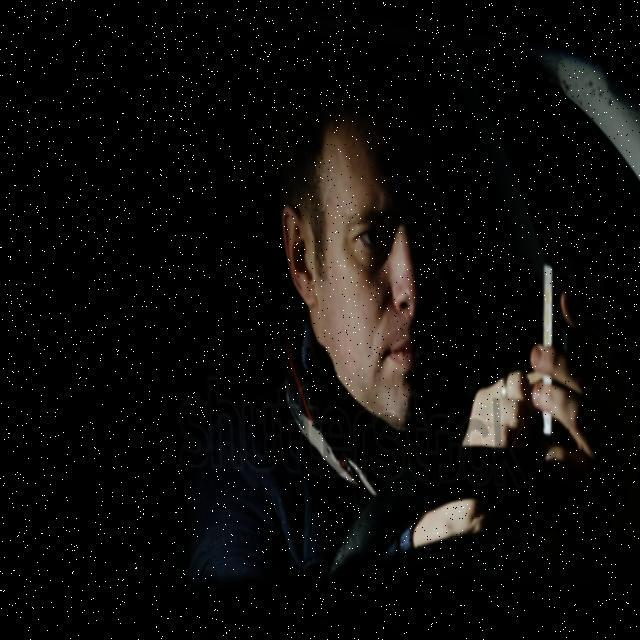PhoneCall: (524, 239, 610, 453)
